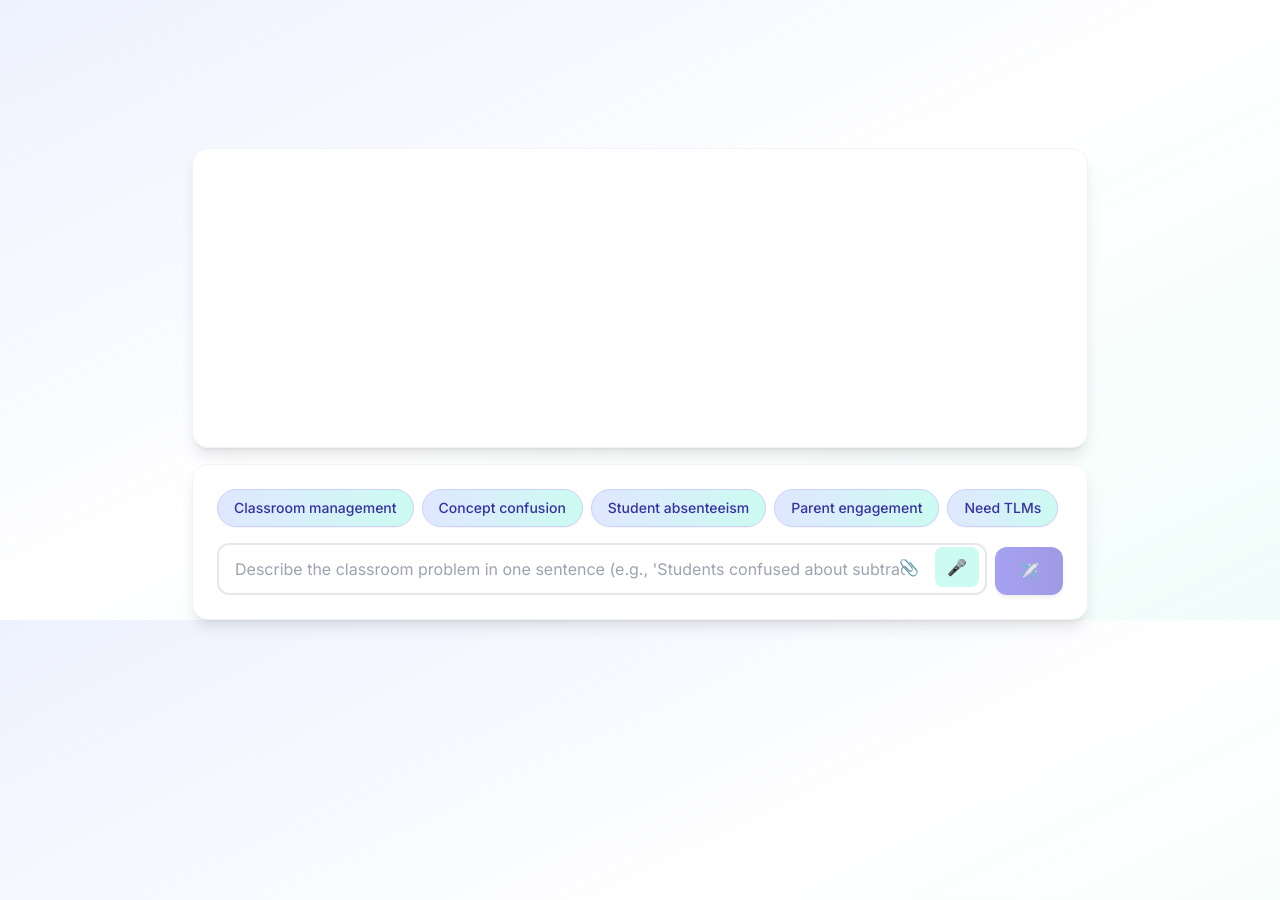
Test: TeacherChat › submits form and shows advice card
The width and height of the screenshot is (1280, 900).
Replace the text in the field with placeholder "Describe the classroom problem in one sentence" with "Students confused about subtraction" at [602, 569], box [217,543,987,595]
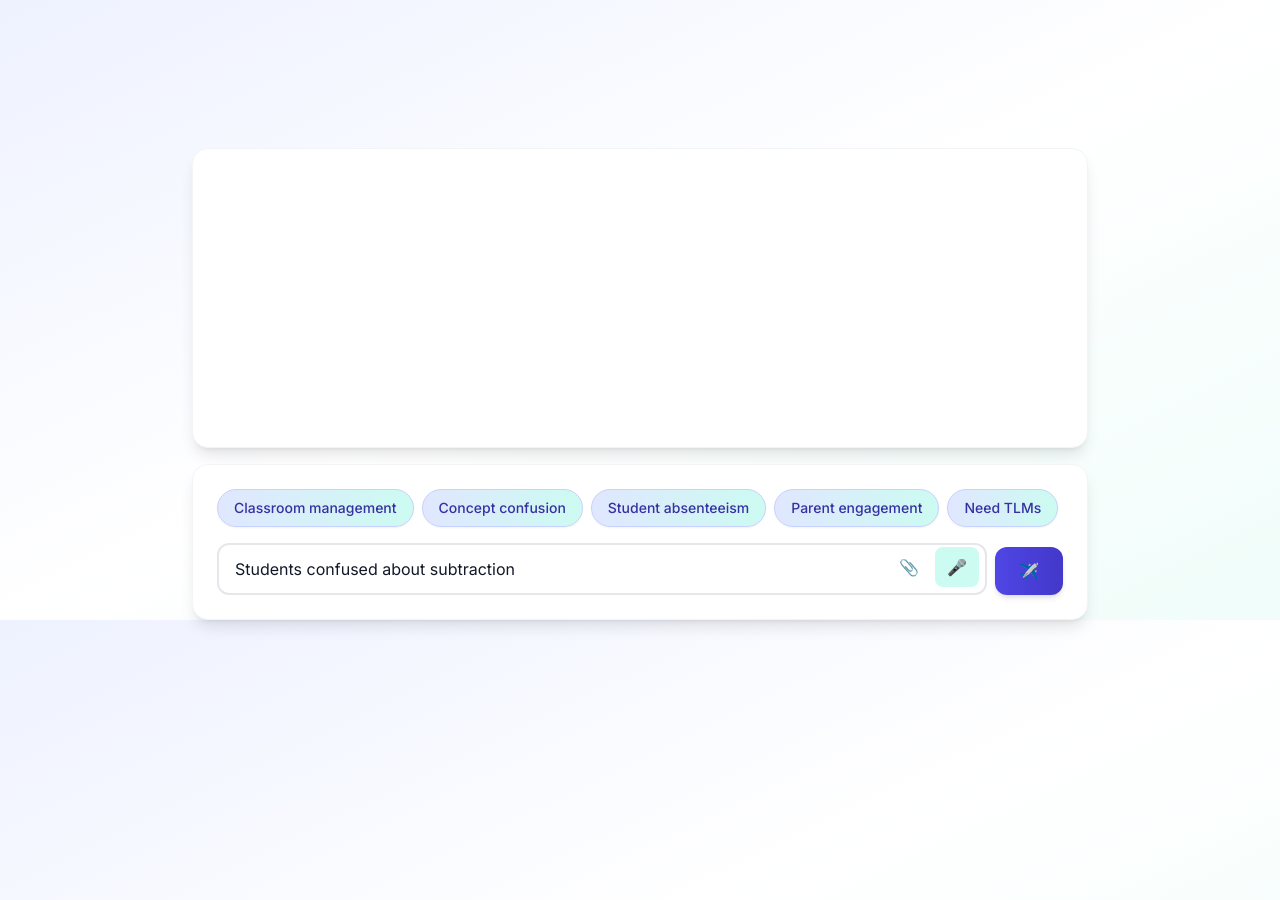
Click the button named "Send message" at [1029, 571], box [995,547,1063,595]
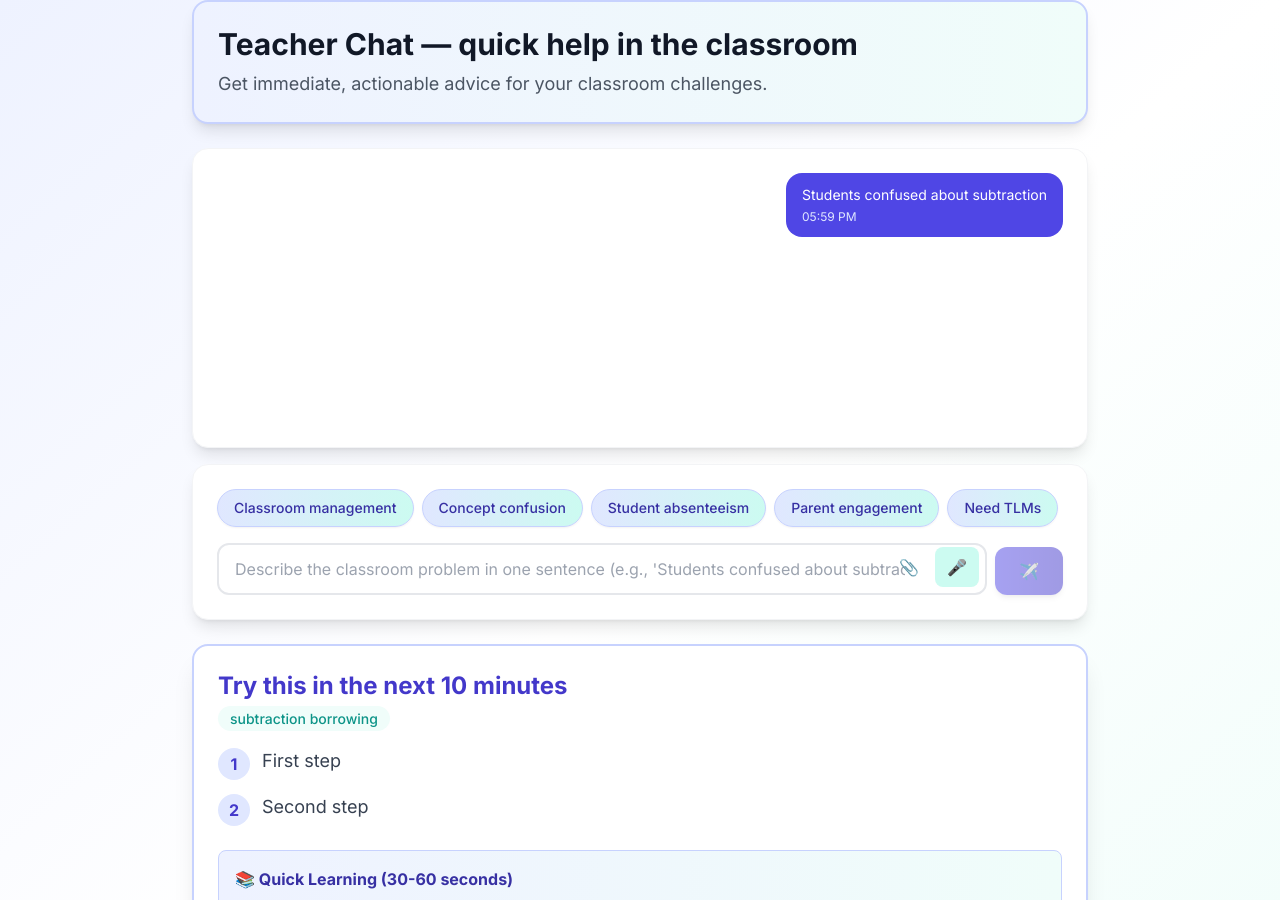
expect the heading "Try this in the next 10 minutes" is shown: met, box [218,670,568,702]
